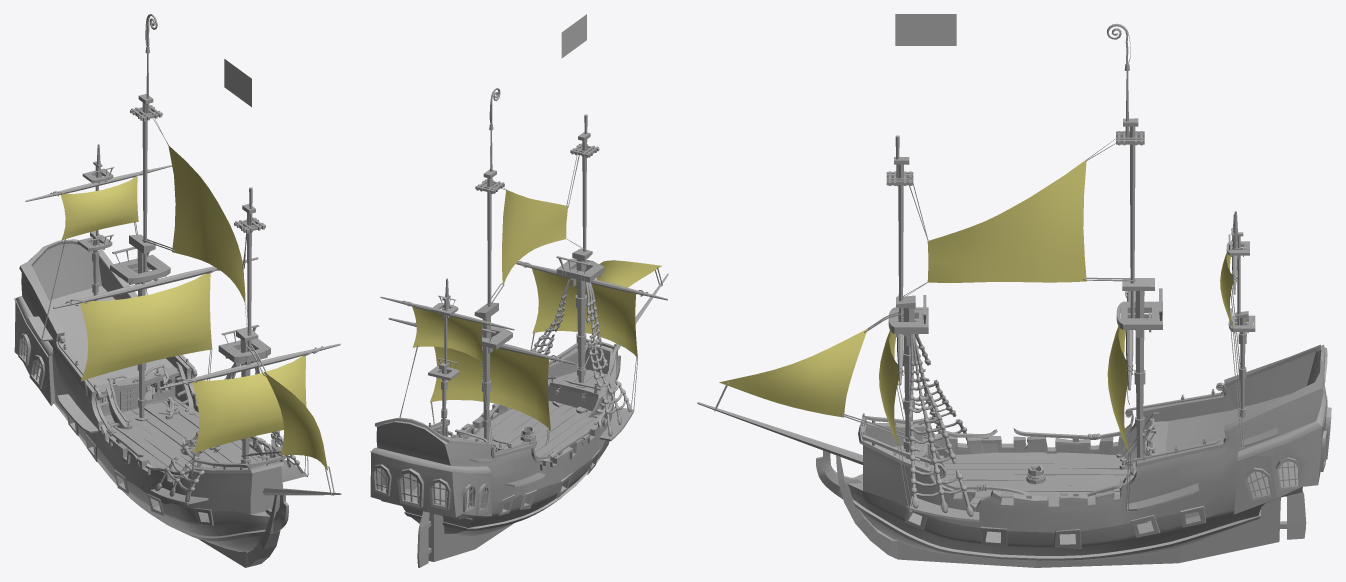
The model's file is EnvShip_001_Model.fbx.
3 renders of one model, left to right at view 1: azimuth 30°, elevation 25°; view 2: azimuth 150°, elevation 25°; view 3: azimuth 270°, elevation 25°, orthographic. The views are drawn at different scales.
Visible parts, largest first — view 1: Hull, Sail_5, Hull_1, Sail_2, Sail_3, Quaterdeck, Sail_6, Sail_1, Platform (×2), Rail, Post_2 (×2), Keel (+18 smaller); view 2: Hull, Sail_5, Hull_1, Sail_2, Sail_3, Sail_6, Post_1 (×2), Shroud_2, Keel, Platform (×2), Post_2 (×2), Sail_1 (+14 smaller); view 3: Hull, Hull_1, Sail_3, Keel, Sail_1, Shroud_1, Rail, Quaterdeck, Post_1 (×2), JollyRoger, Platform (×2), Post_2 (×2) (+12 smaller).
Boxes of the visible parts, x1,y1,x2,y2 form: Hull: (14, 239, 270, 551); Sail_5: (78, 273, 212, 381); Hull_1: (75, 355, 284, 514); Sail_2: (192, 356, 306, 453); Sail_3: (168, 145, 245, 302); Quaterdeck: (49, 286, 179, 394); Sail_6: (60, 176, 138, 240); Sail_1: (264, 372, 327, 470); Platform (×2): (110, 254, 270, 365); Rail: (58, 335, 285, 474); Post_2 (×2): (142, 102, 251, 364); Keel: (199, 495, 280, 567); Hull: (370, 417, 609, 536); Sail_5: (430, 346, 550, 430); Hull_1: (431, 343, 616, 498); Sail_2: (531, 268, 637, 357); Sail_3: (502, 190, 567, 284); Sail_6: (412, 307, 483, 364); Post_1 (×2): (482, 259, 586, 442); Shroud_2: (585, 281, 631, 436); Keel: (422, 511, 513, 561); Platform (×2): (482, 258, 604, 349); Post_2 (×2): (487, 139, 586, 338); Sail_1: (596, 260, 661, 287); Hull: (847, 344, 1331, 560); Hull_1: (858, 403, 1183, 532); Sail_3: (927, 159, 1086, 282); Keel: (836, 455, 1280, 567); Sail_1: (719, 328, 867, 417); Shroud_1: (908, 334, 973, 516); Rail: (860, 382, 1225, 496); Quaterdeck: (1144, 394, 1290, 455); Post_1 (×2): (902, 291, 1145, 477); JollyRoger: (895, 14, 956, 45); Platform (×2): (888, 301, 1162, 337); Post_2 (×2): (898, 126, 1135, 321).
Bounding box in the file's own units: 74.48 × 173 × 180.
